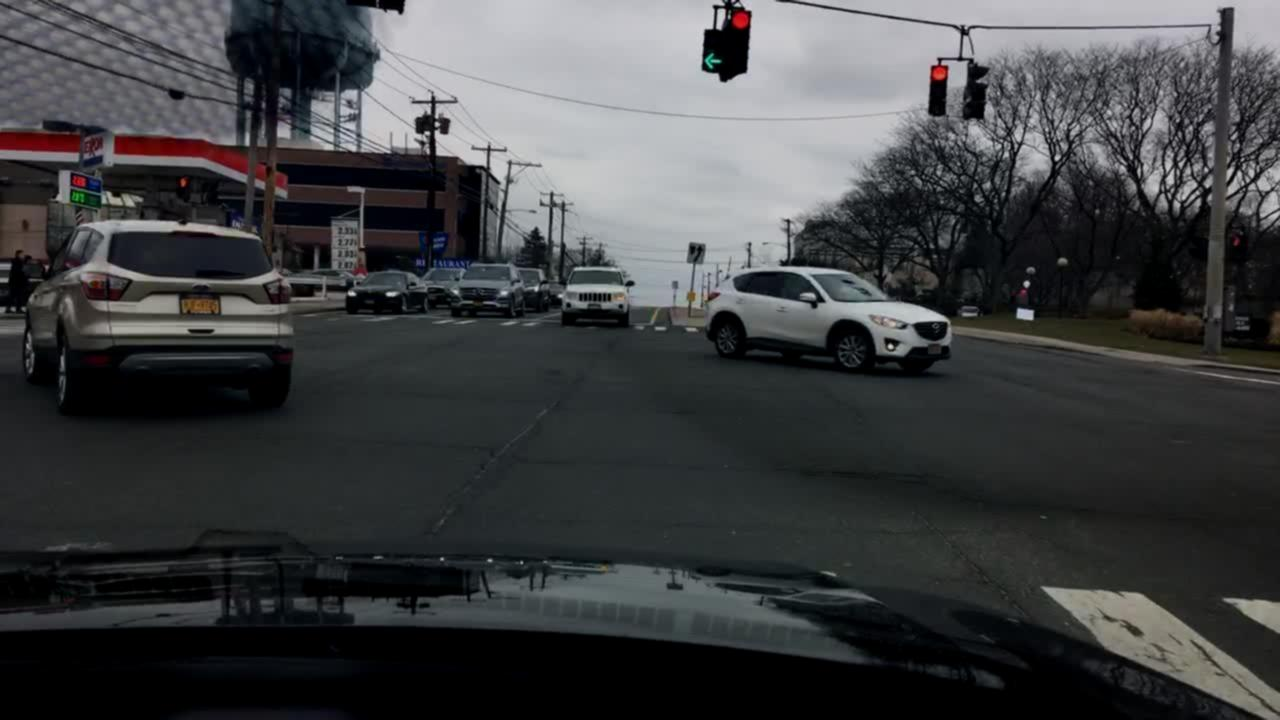Mazda: (927, 317, 945, 335)
Mercedes: (474, 288, 483, 297)
